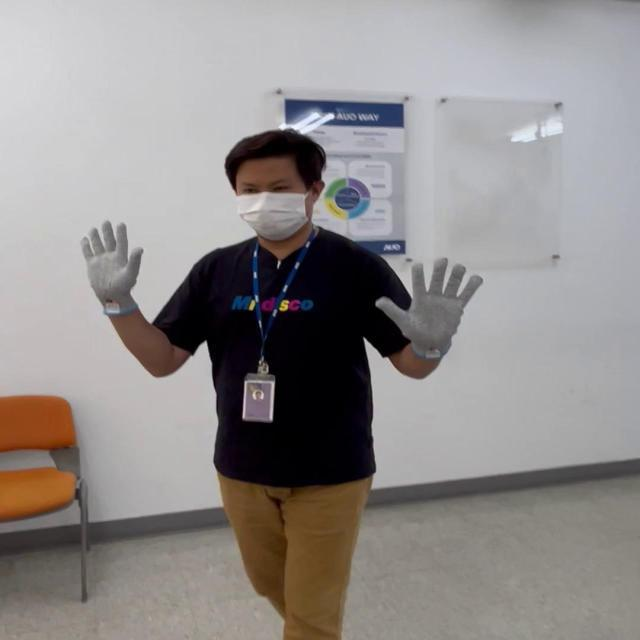gloved_hand: (375, 255, 480, 365), (80, 215, 142, 316)
